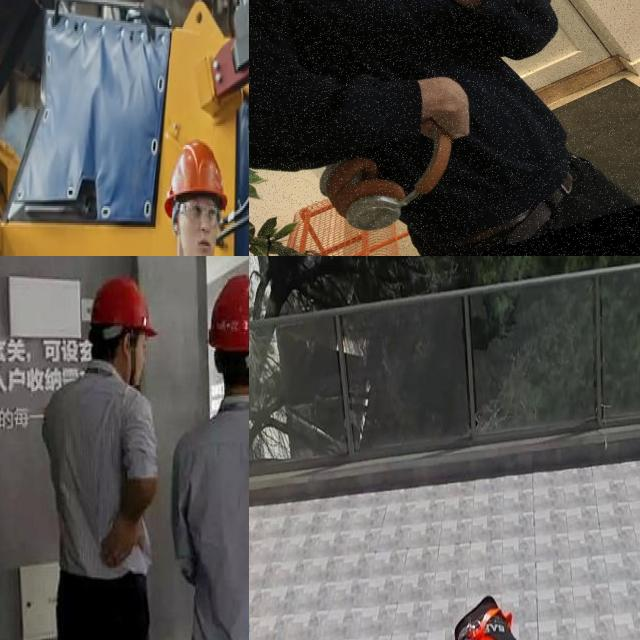Harness: (460, 616, 492, 640)
No_Ear-Protection: (120, 325, 138, 363)
glasses: (175, 194, 225, 226)
head_helmet: (165, 137, 227, 206)
person: (110, 136, 249, 256)
